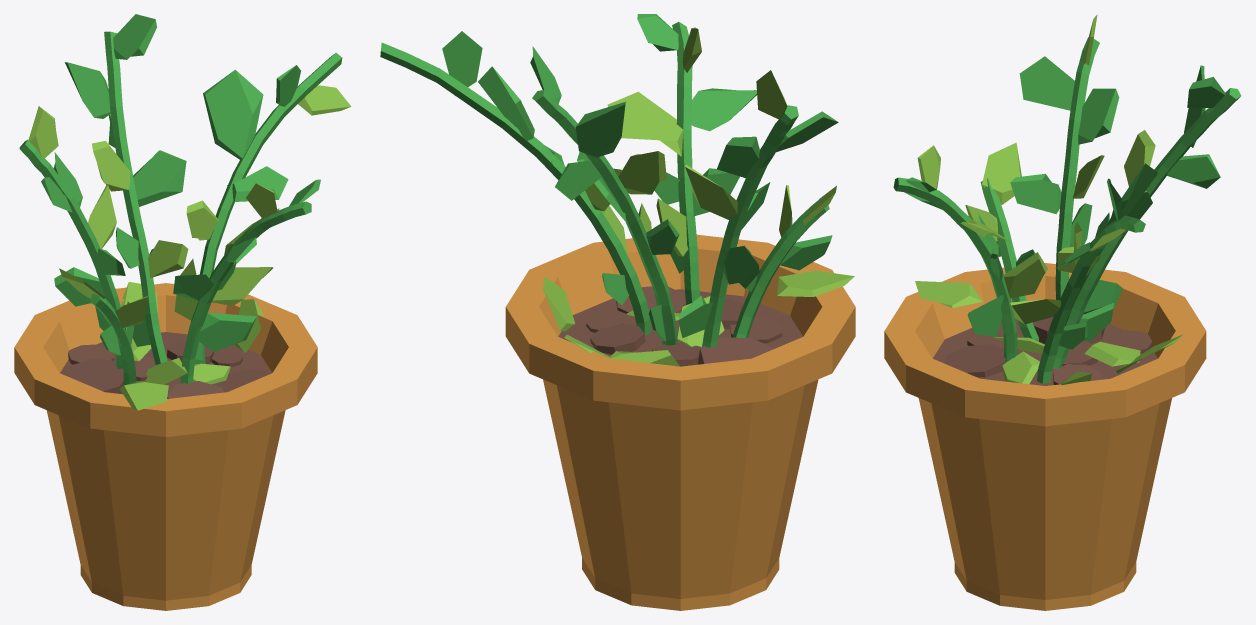
File: Potted_Plant.fbx
3 views of the same model, side by side, from view 1: azimuth 30°, elevation 25°; view 2: azimuth 150°, elevation 25°; view 3: azimuth 270°, elevation 25° (orthographic). The views are drawn at different scales.
Parts seen in each view (by area): view 1: group_1430211780; view 2: group_1430211780; view 3: group_1430211780.
Boxes of the visible parts, box(x1,y1,x2,y2) form: group_1430211780: box(14, 14, 351, 610); group_1430211780: box(380, 14, 855, 610); group_1430211780: box(884, 14, 1241, 610).
Bounding box in the file's own units: 25.25 × 33.93 × 21.07.
